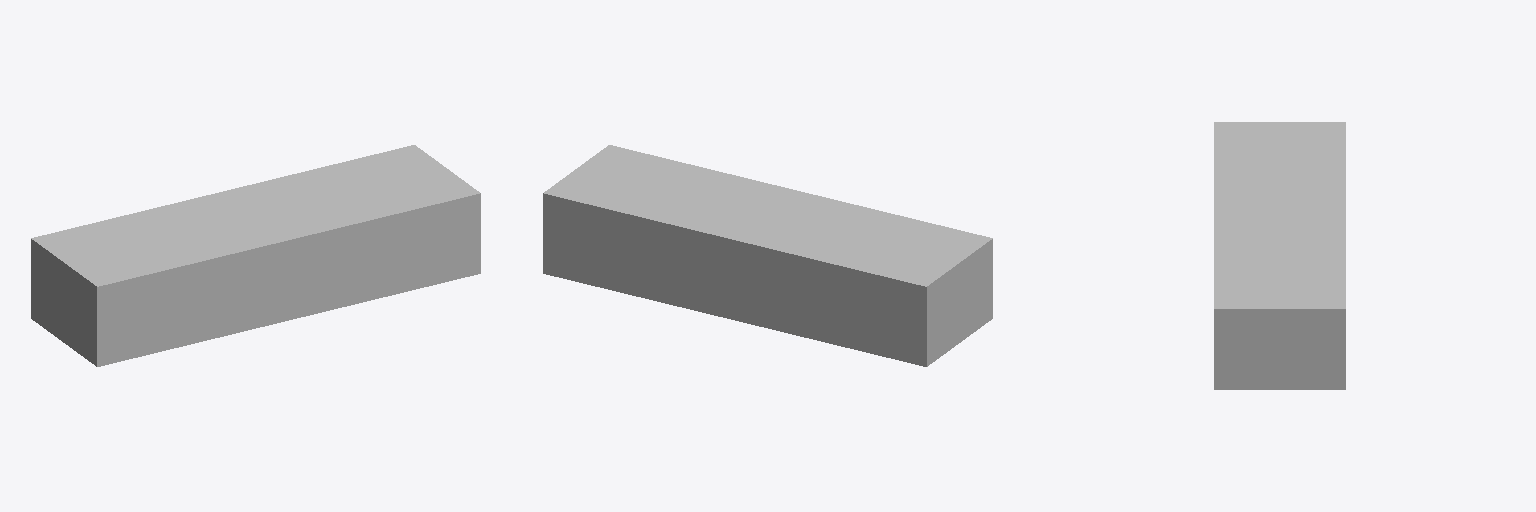
The model's file is Sidewalk2.obj.
3 renders of one model, left to right at view 1: azimuth 30°, elevation 25°; view 2: azimuth 150°, elevation 25°; view 3: azimuth 270°, elevation 25°, orthographic.
Visible parts, largest first — view 1: SIDEWALK; view 2: SIDEWALK; view 3: SIDEWALK.
Part boxes in pixels (x1,y1,x2,y2): SIDEWALK: (31, 145, 480, 366); SIDEWALK: (543, 145, 992, 366); SIDEWALK: (1214, 122, 1345, 389).
Size of the model in its own units: 10 by 2 by 3.